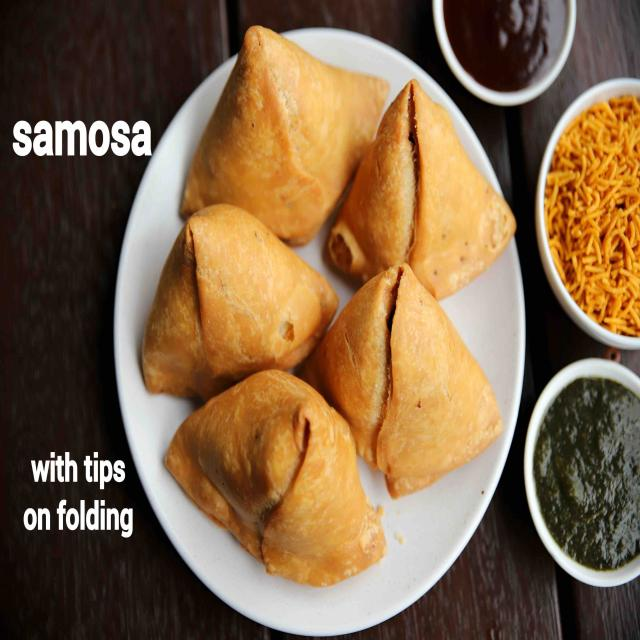samosa: (153, 24, 507, 561)
